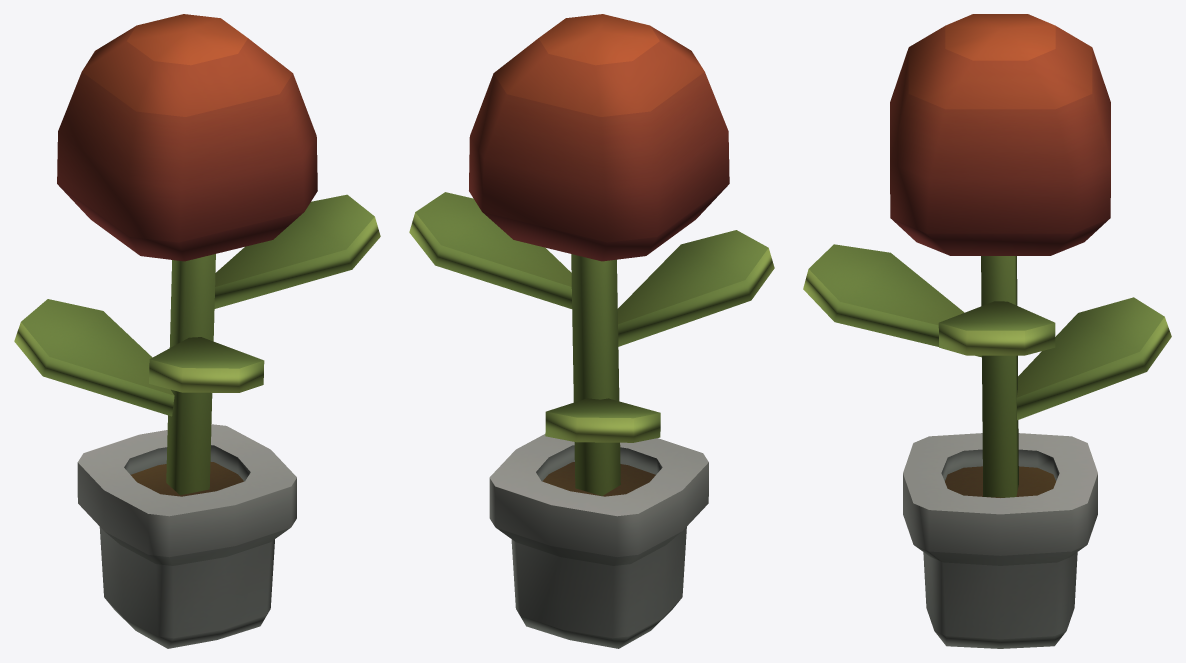
File: flower_2_red_pot.fbx
The picture shows the model from 3 angles, left to right: view 1: azimuth 30°, elevation 25°; view 2: azimuth 150°, elevation 25°; view 3: azimuth 270°, elevation 25°; orthographic projection.
Parts seen in each view (by area): view 1: flower_2_red_pot; view 2: flower_2_red_pot; view 3: flower_2_red_pot.
Part boxes in pixels (bbox=[...]): flower_2_red_pot: bbox=[14, 14, 380, 648]; flower_2_red_pot: bbox=[409, 14, 774, 648]; flower_2_red_pot: bbox=[803, 14, 1171, 648].
Bounding box in the file's own units: 49.73 × 98.93 × 55.64.
